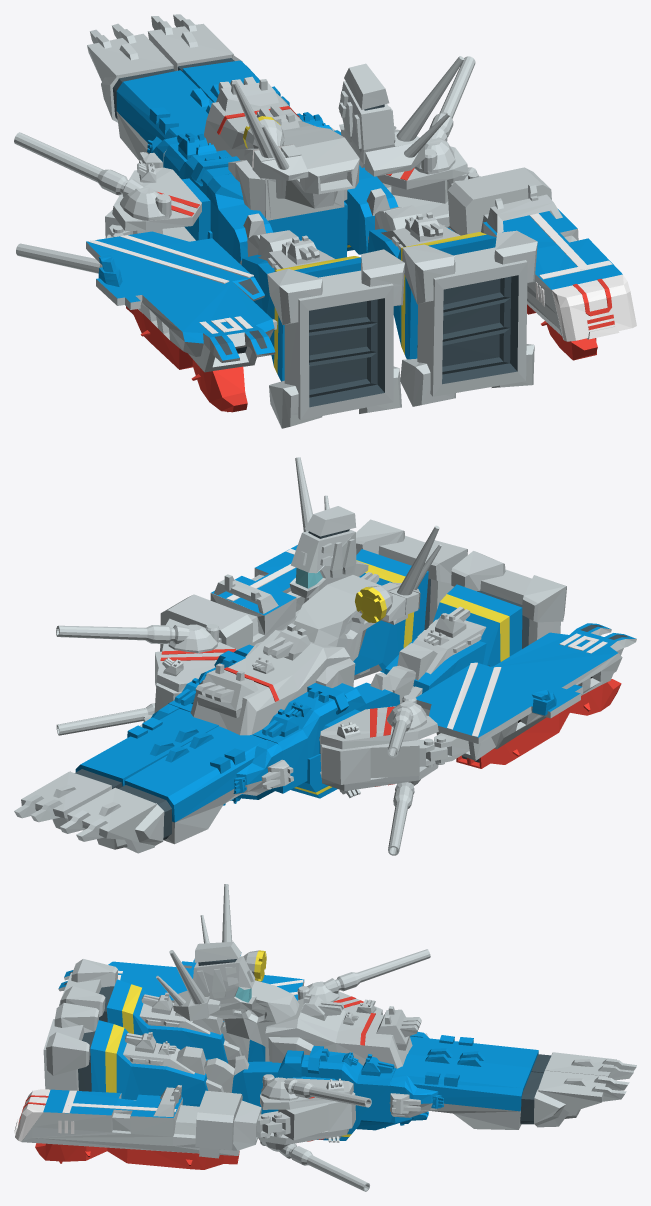
Rendered from warship2.obj.
The picture shows the model from 3 angles, top to bottom: view 1: azimuth 30°, elevation 25°; view 2: azimuth 150°, elevation 25°; view 3: azimuth 270°, elevation 25°; orthographic projection. The views are drawn at different scales.
Parts seen in each view (by area): view 1: group791636052, group1251072159, group307810053, group1818798586, group1869342114, group1218857604, group1537791447, group1866624947, group734031437, group168960952, group110305766, group113329594 (+6 smaller); view 2: group791636052, group1251072159, group1218857604, group734031437, group1869342114, group113329594, group1537791447, group307810053, group1866624947, group168960952, group1818798586, group110305766 (+6 smaller); view 3: group1218857604, group1869342114, group1866624947, group791636052, group734031437, group1537791447, group113329594, group1818798586, group168960952, group1251072159, group307810053, group2008653266 (+5 smaller).
Boxes of the visible parts, x1=… form: group791636052: x1=14, y1=23, x2=239, y2=273; group1251072159: x1=86, y1=231, x2=277, y2=412; group307810053: x1=267, y1=249, x2=404, y2=428; group1818798586: x1=400, y1=230, x2=537, y2=406; group1869342114: x1=447, y1=167, x2=636, y2=360; group1218857604: x1=147, y1=14, x2=476, y2=228; group1537791447: x1=338, y1=56, x2=464, y2=176; group1866624947: x1=367, y1=205, x2=496, y2=359; group734031437: x1=240, y1=230, x2=361, y2=381; group168960952: x1=276, y1=125, x2=359, y2=208; group110305766: x1=232, y1=80, x2=308, y2=180; group113329594: x1=204, y1=93, x2=344, y2=220; group791636052: x1=60, y1=683, x2=438, y2=855; group1251072159: x1=416, y1=623, x2=636, y2=768; group1218857604: x1=14, y1=624, x2=245, y2=830; group734031437: x1=384, y1=584, x2=522, y2=703; group1869342114: x1=160, y1=545, x2=311, y2=651; group113329594: x1=190, y1=630, x2=350, y2=735; group1537791447: x1=289, y1=457, x2=368, y2=598; group307810053: x1=451, y1=551, x2=566, y2=648; group1866624947: x1=353, y1=549, x2=428, y2=679; group168960952: x1=294, y1=575, x2=381, y2=661; group1818798586: x1=356, y1=519, x2=467, y2=629; group110305766: x1=355, y1=525, x2=441, y2=624; group1218857604: x1=258, y1=1045, x2=629, y2=1191; group1869342114: x1=14, y1=1085, x2=261, y2=1169; group1866624947: x1=90, y1=1020, x2=234, y2=1106; group791636052: x1=297, y1=949, x2=636, y2=1080; group734031437: x1=106, y1=979, x2=249, y2=1068; group1537791447: x1=156, y1=941, x2=256, y2=1021; group113329594: x1=265, y1=998, x2=412, y2=1068; group1818798586: x1=43, y1=1003, x2=99, y2=1091; group168960952: x1=211, y1=980, x2=299, y2=1046; group1251072159: x1=58, y1=955, x2=304, y2=1021; group307810053: x1=59, y1=959, x2=117, y2=1022; group2008653266: x1=232, y1=1050, x2=303, y2=1114.
Size of the model in its own units: 3.52 by 1.96 by 5.3.
